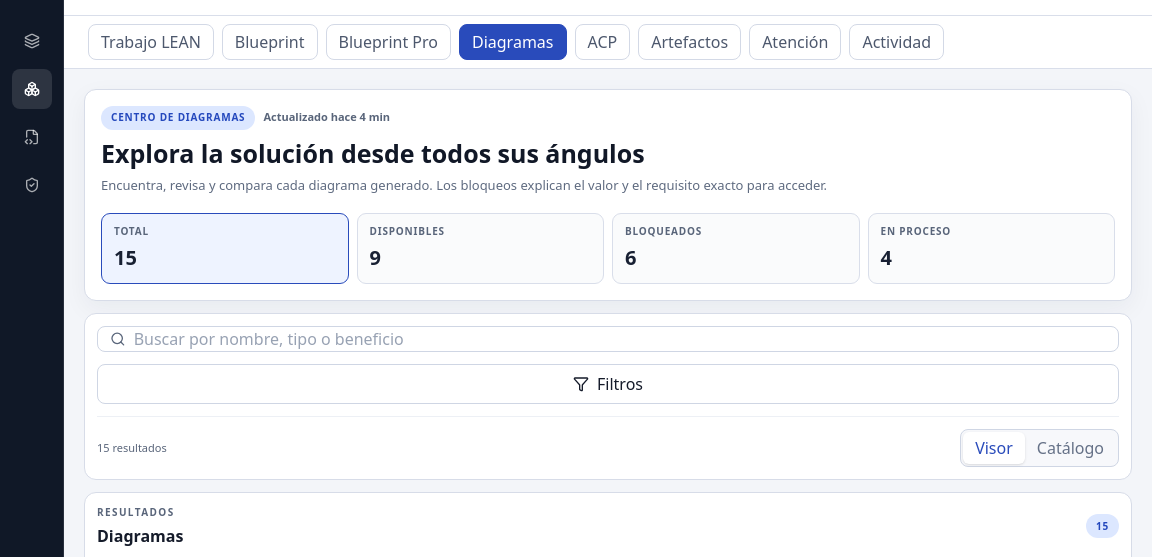
DiagramViewerFinalMockup › permite buscar y abrir un diagrama bloqueado con una explicación accionable
The width and height of the screenshot is (1152, 557).
expect the heading "Explora la solución desde todos sus ángulos" is shown: met, box [101,136,645,170]
Type "despliegue" into the field with placeholder "Buscar por nombre, tipo o beneficio" at (620, 339), box [134,327,1106,351]
(page scrolled)
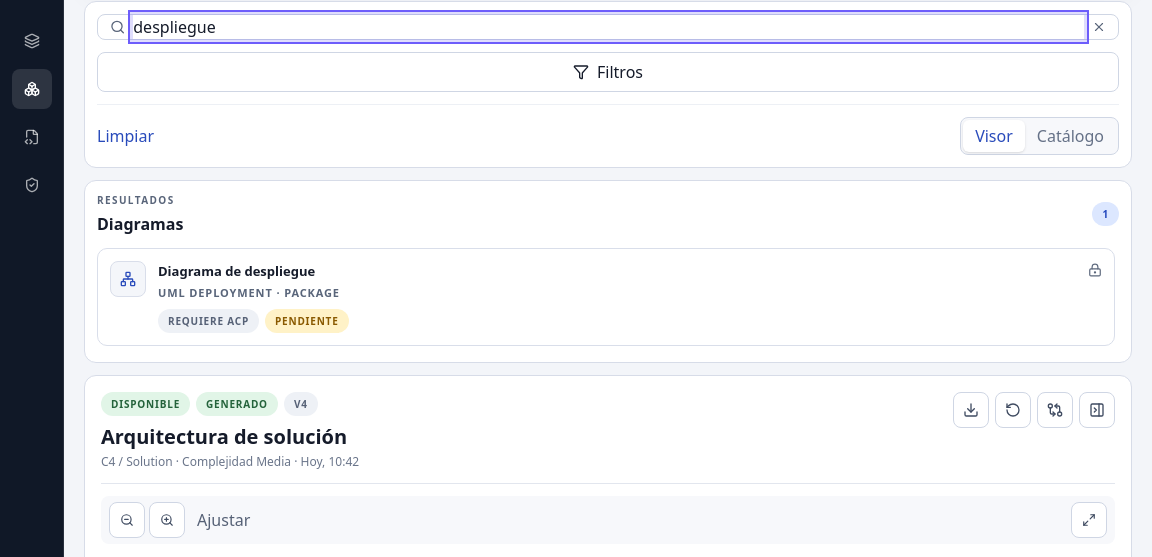
Click the button "Diagrama de despliegue" at (128, 279), box [97,248,1115,346]
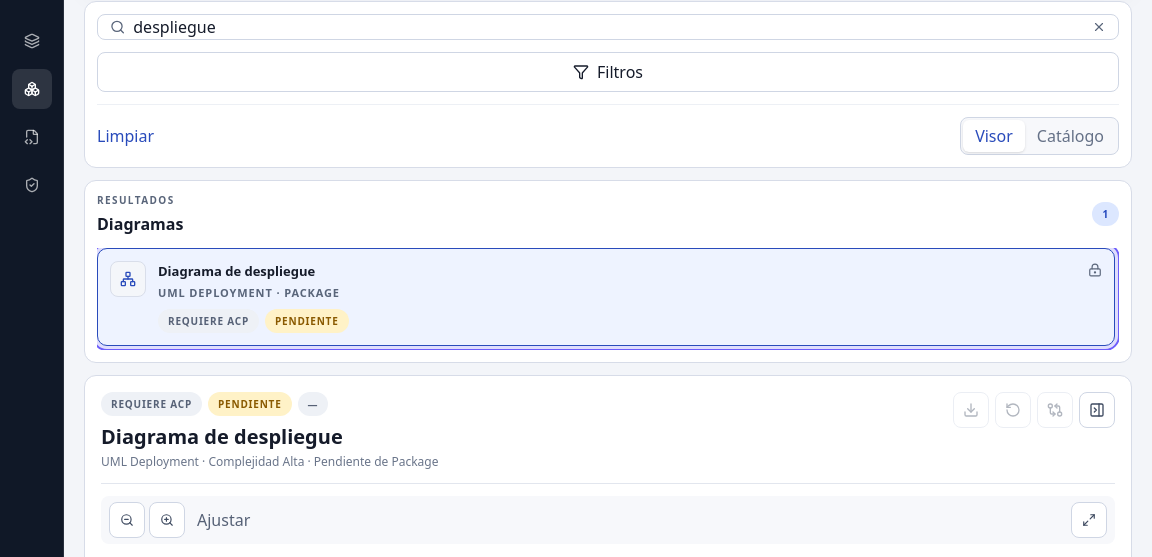
expect the button named "Descargar" is disabled: met, box [953,392,989,428]
